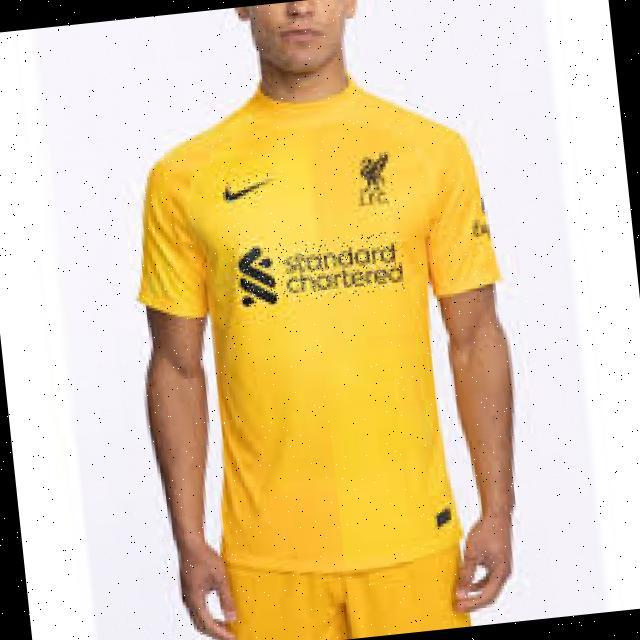Nike: (220, 173, 274, 202)
Standard Chartered: (232, 231, 406, 308)
